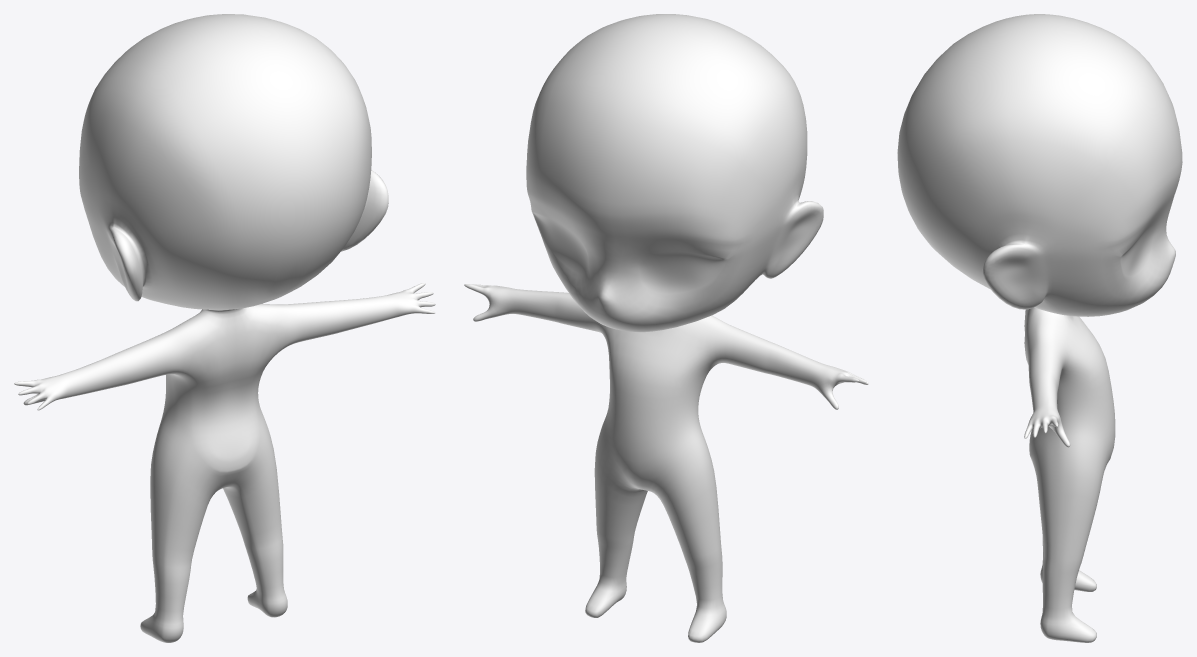
Rendered from player.obj.
3 views of the same model, side by side, from view 1: azimuth 30°, elevation 25°; view 2: azimuth 150°, elevation 25°; view 3: azimuth 270°, elevation 25° (orthographic). The views are drawn at different scales.
Parts seen in each view (by area): view 1: Retopology_hp_Plane.002; view 2: Retopology_hp_Plane.002; view 3: Retopology_hp_Plane.002.
Boxes of the visible parts, <box> form: Retopology_hp_Plane.002: <box>14,14,435,642</box>; Retopology_hp_Plane.002: <box>464,14,868,642</box>; Retopology_hp_Plane.002: <box>897,14,1182,642</box>.
Size of the model in its own units: 1.18 by 1.65 by 0.7267.
